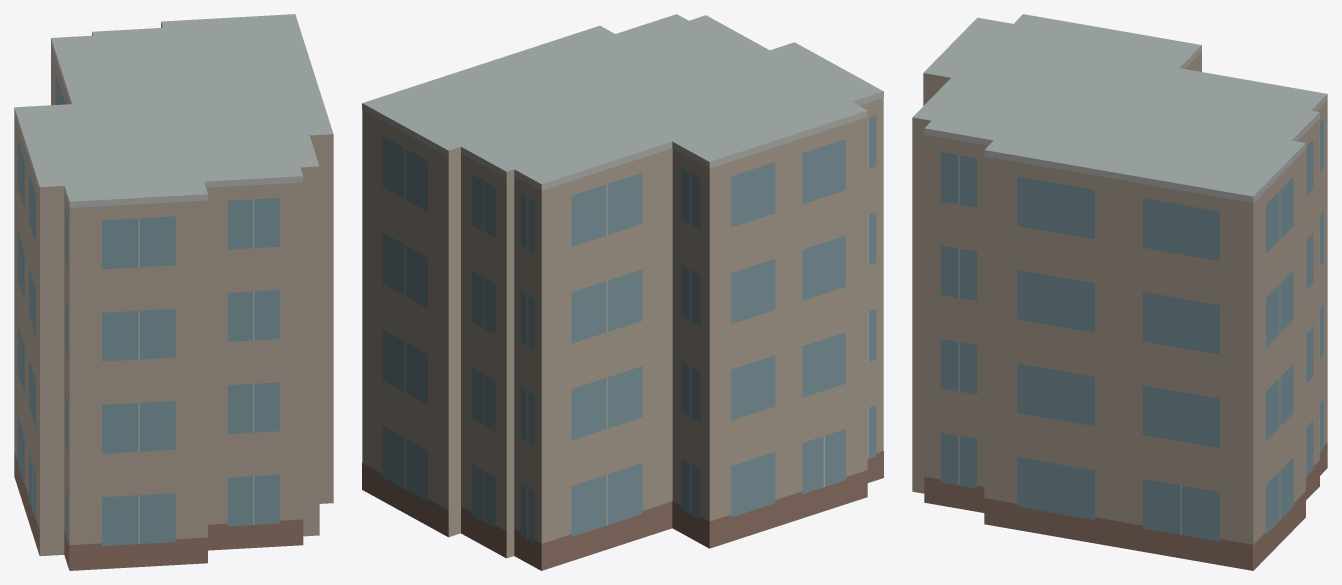
Rendered from survey-upis-32625557.glb.
3 renders of one model, left to right at view 1: azimuth 30°, elevation 25°; view 2: azimuth 150°, elevation 25°; view 3: azimuth 270°, elevation 25°, orthographic. The views are drawn at different scales.
Parts seen in each view (by area): view 1: survey-upis-32625557.tmp; view 2: survey-upis-32625557.tmp; view 3: survey-upis-32625557.tmp.
Boxes of the visible parts, box(x1,y1,x2,y2) form: survey-upis-32625557.tmp: box(14, 14, 333, 570); survey-upis-32625557.tmp: box(362, 14, 883, 570); survey-upis-32625557.tmp: box(912, 14, 1327, 570).
Bounding box in the file's own units: 15.02 × 14.34 × 14.43.
